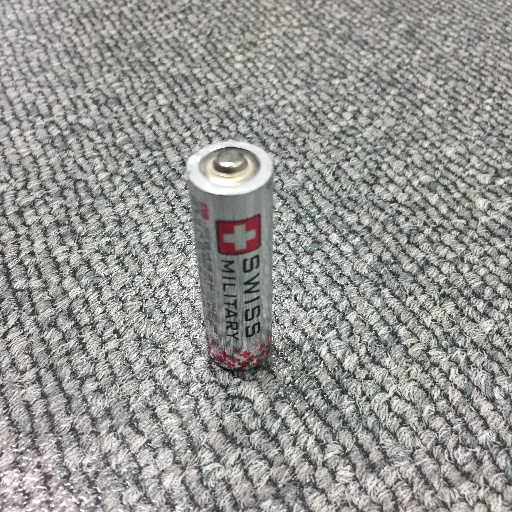Battery_0: (182, 133, 285, 378)
